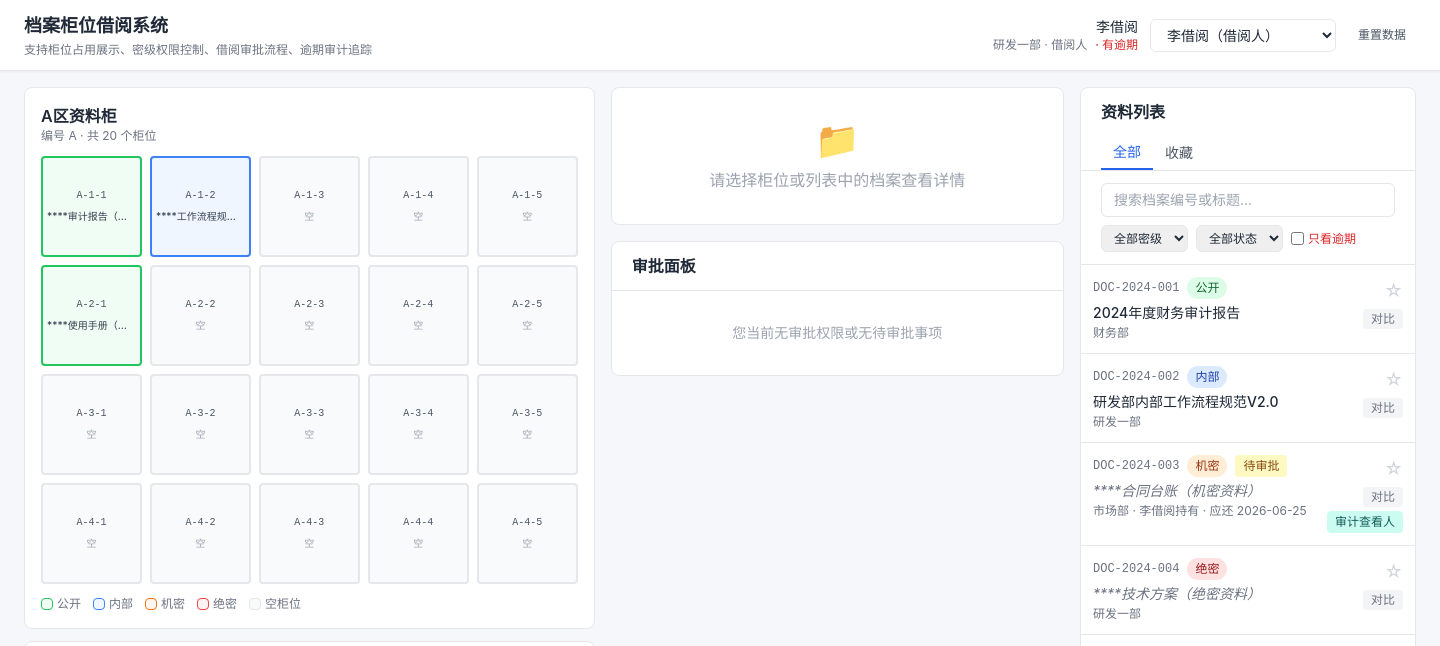
Test: smoke-905: 收藏对比与流程查询复查 › 对比功能测试 › 详情页可以添加和移除对比
This screenshot has width=1440, height=646.
Select "张档案（档案员）" in the dropdown with test id "role-select": (1243, 35) [1150,18,1336,52]
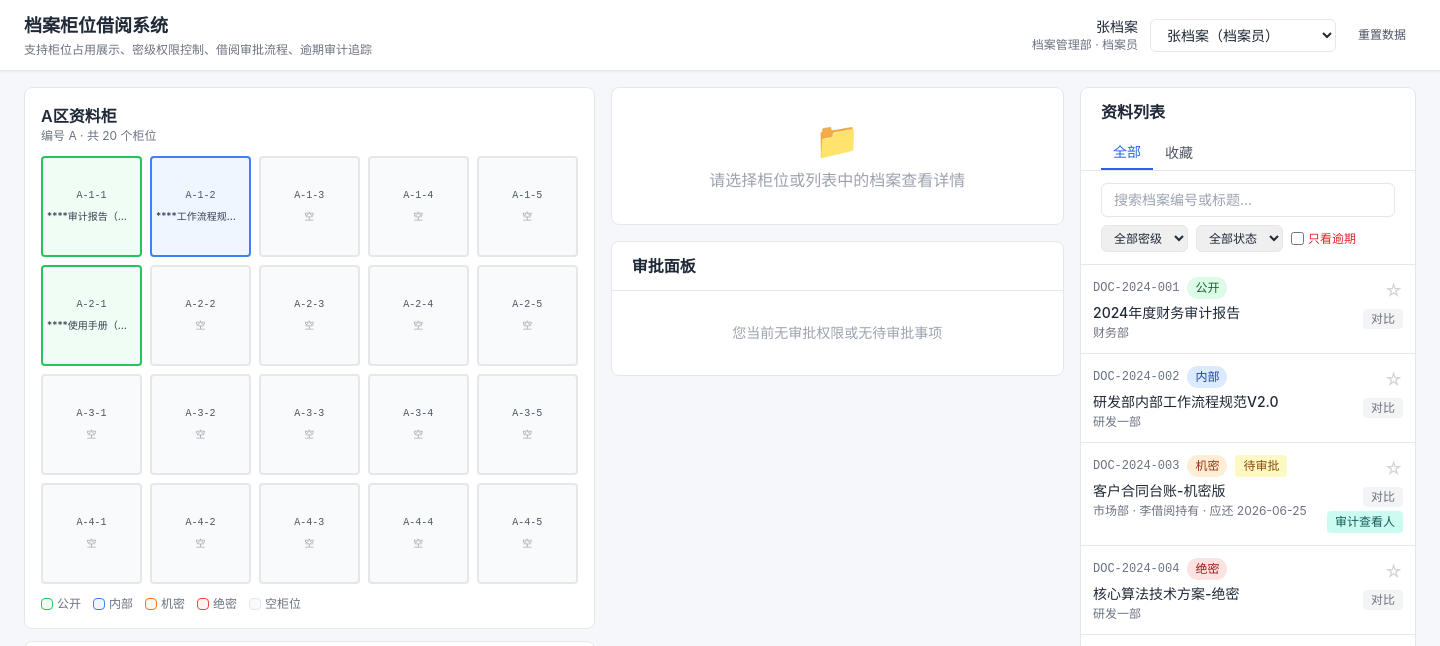
Click the element with test id "archive-row-arc-1": (1136, 288) [1081,265,1415,353]
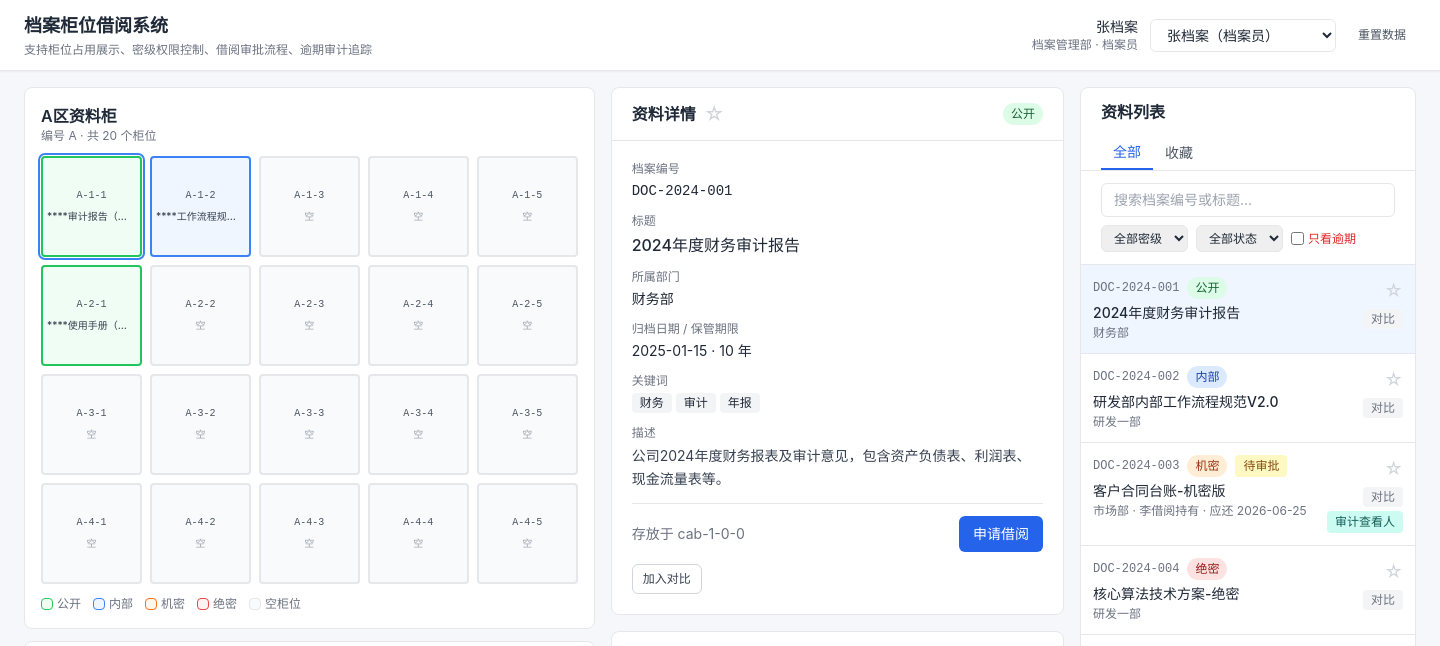
Now the button with test id "btn-detail-compare" is shown
Now the button with test id "btn-detail-compare" reads "加入对比"
Click the button with test id "btn-detail-compare": (667, 578) [632,564,702,594]
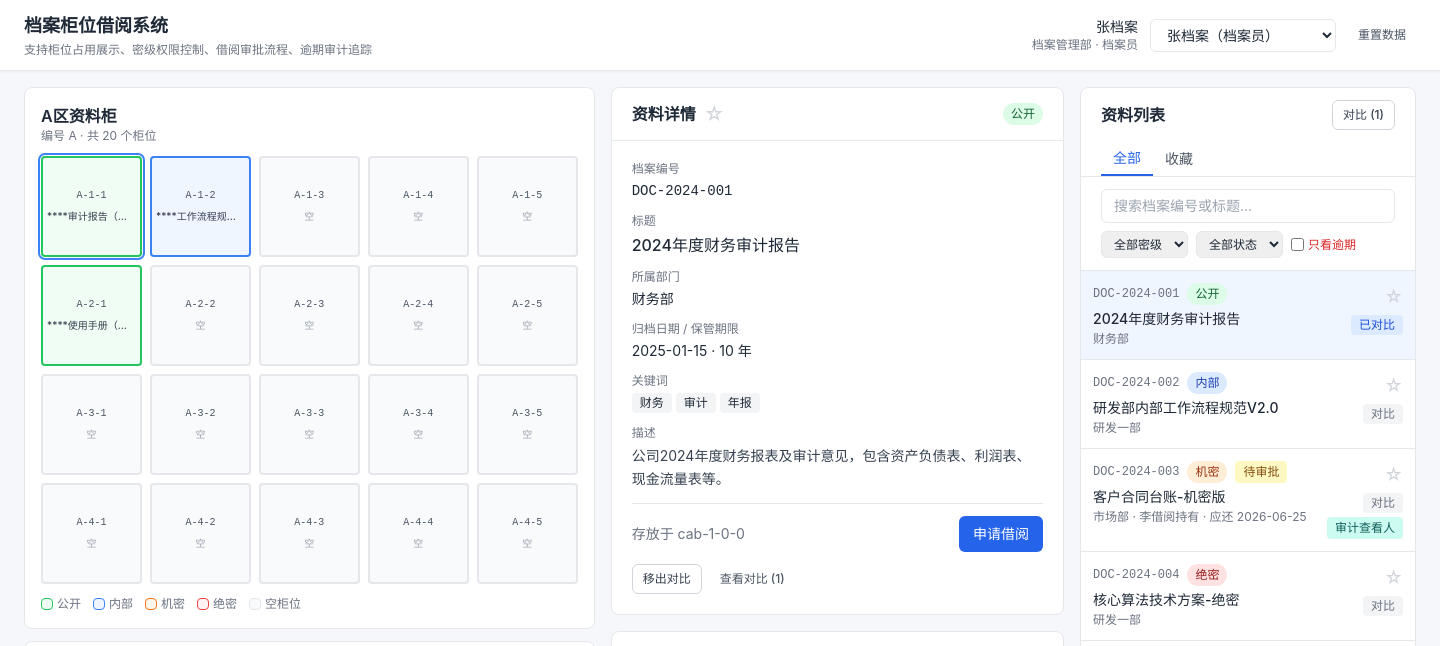
Now the button with test id "btn-detail-compare" reads "移出对比", box [632,564,702,594]
Now the button with test id "btn-detail-open-compare" is shown, box [710,564,795,594]
